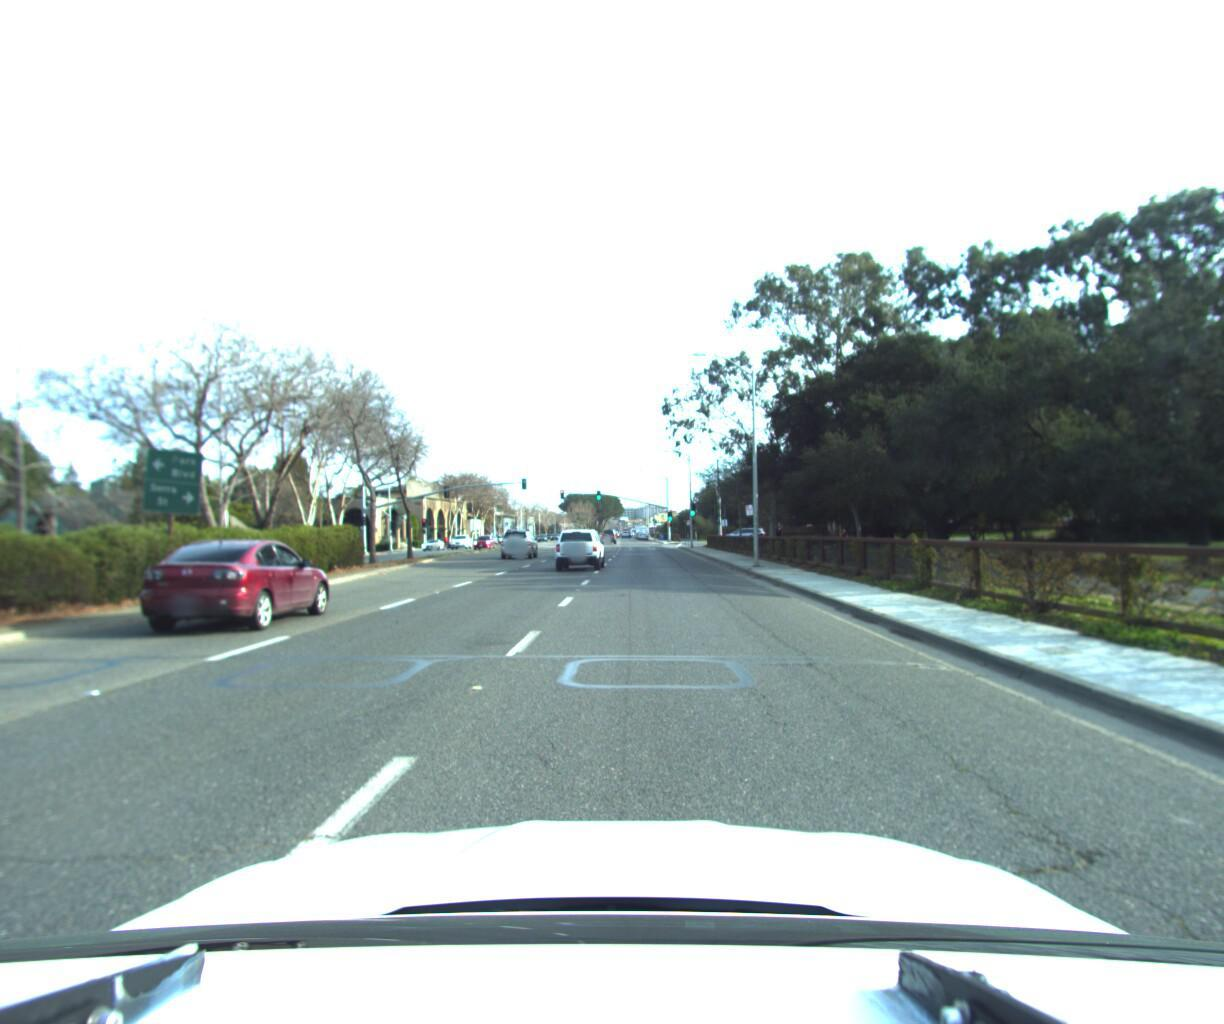car: (134, 535, 339, 641), (548, 523, 605, 571), (498, 526, 540, 558), (470, 532, 497, 549)
